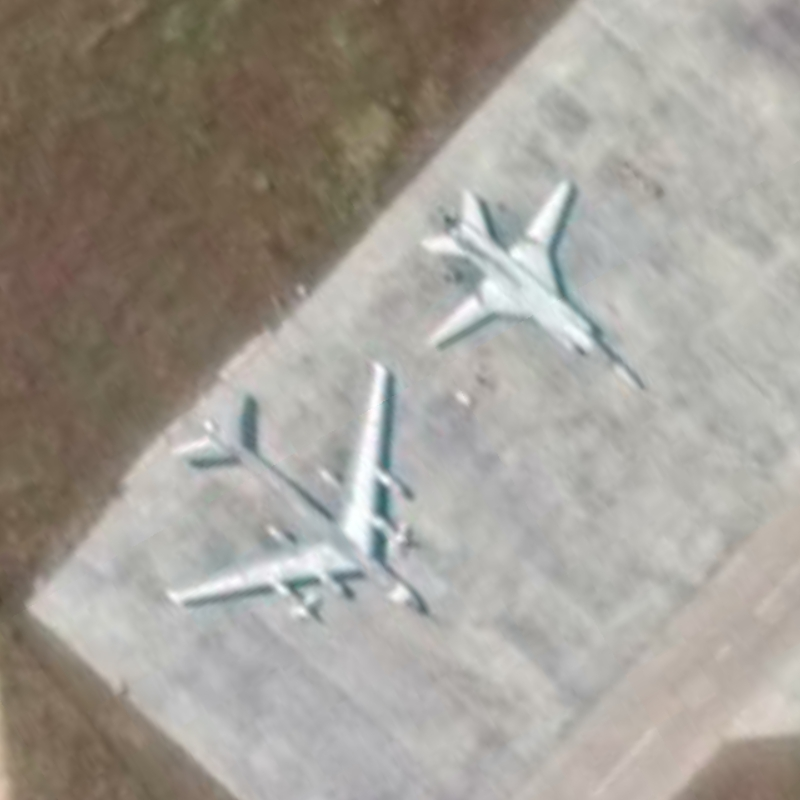A12: (417, 174, 651, 395)
A17: (158, 352, 433, 626)
